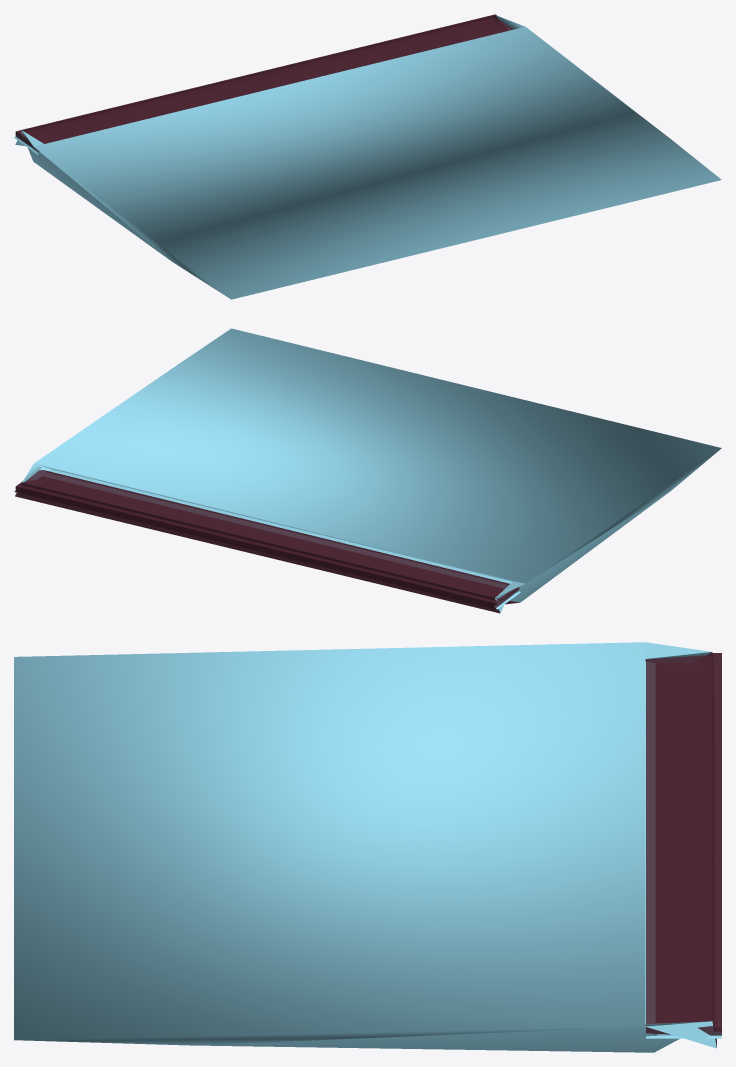
The model's file is shrt.fbx.
3 renders of one model, top to bottom at view 1: azimuth 30°, elevation 25°; view 2: azimuth 150°, elevation 25°; view 3: azimuth 270°, elevation 25°, orthographic. The views are drawn at different scales.
Parts seen in each view (by area): view 1: ChamferBox001, frame; view 2: ChamferBox001, frame; view 3: ChamferBox001, frame.
Part boxes in pixels (left/top/right/bottom): ChamferBox001: left=14, top=15, right=721, bottom=299; frame: left=16, top=14, right=513, bottom=143; ChamferBox001: left=15, top=328, right=721, bottom=613; frame: left=14, top=470, right=515, bottom=613; ChamferBox001: left=14, top=642, right=721, bottom=1052; frame: left=646, top=653, right=721, bottom=1047.
Bounding box in the file's own units: 339 × 11.42 × 260.
